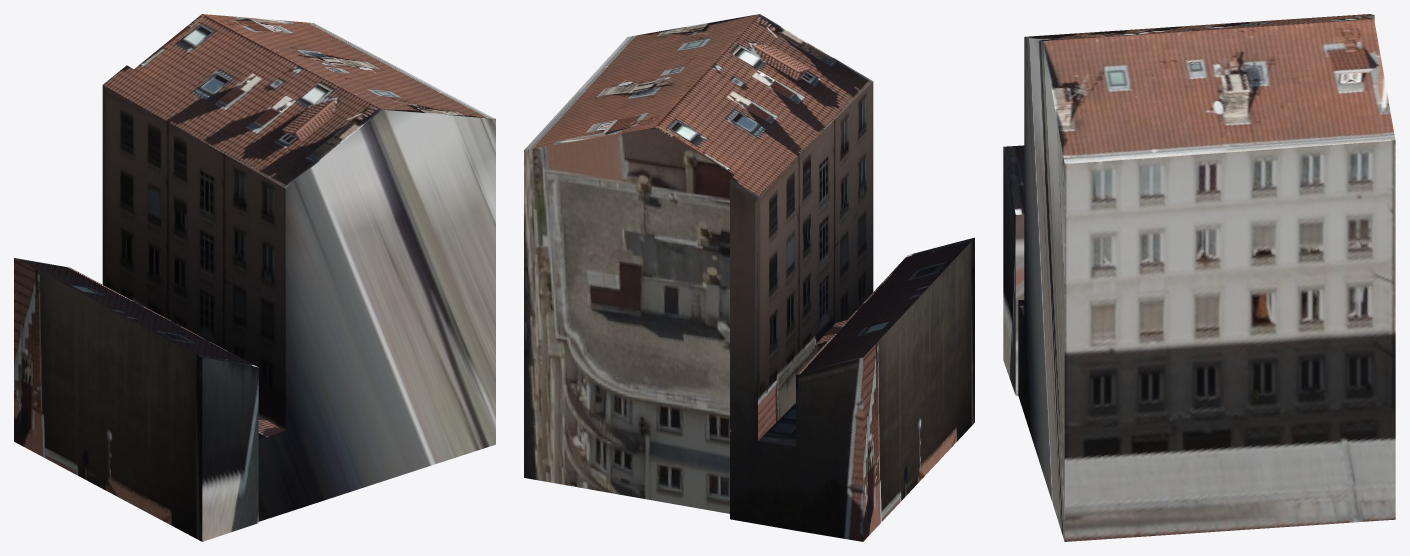
3 views of the same model, side by side, from view 1: azimuth 30°, elevation 25°; view 2: azimuth 150°, elevation 25°; view 3: azimuth 270°, elevation 25° (orthographic). The views are drawn at different scales.
Visible parts, largest first — view 1: Z_UP; view 2: Z_UP; view 3: Z_UP.
Boxes of the visible parts, <box> form: Z_UP: <box>14,14,495,541</box>; Z_UP: <box>524,14,974,541</box>; Z_UP: <box>1003,14,1395,541</box>.
Size of the model in its own units: 22.26 by 22.09 by 18.17.
Materials: 2 (1 with a texture image).
